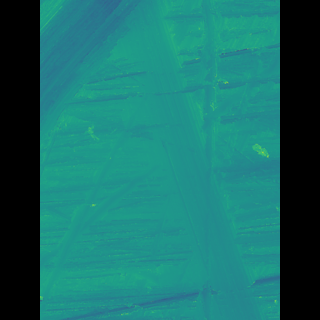Loch: (69, 0, 239, 320)
